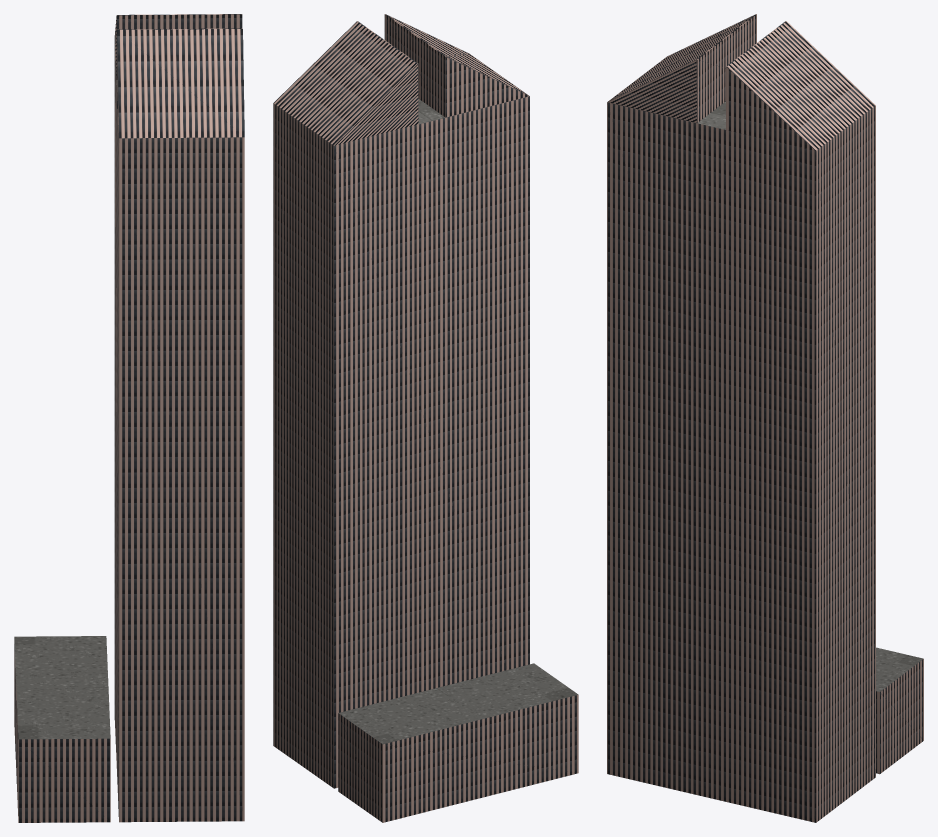
Rendered from att550.glb.
The picture shows the model from 3 angles, left to right: view 1: azimuth 30°, elevation 25°; view 2: azimuth 150°, elevation 25°; view 3: azimuth 270°, elevation 25°; orthographic projection. The views are drawn at different scales.
Visible parts, largest first — view 1: att550; view 2: att550; view 3: att550.
Boxes of the visible parts, x1,y1,x2,y2 form: att550: (14,14,244,822); att550: (273,14,578,822); att550: (607,14,923,822).
Size of the model in its own units: 75.35 by 197 by 76.91.
8 materials, 8 textured.
